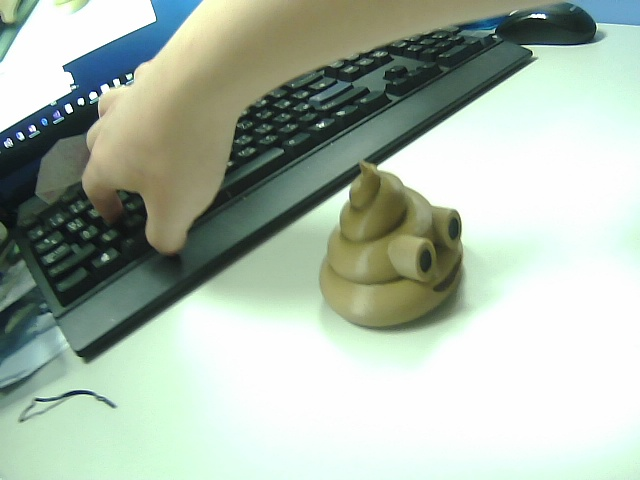shit: (316, 160, 477, 330)
